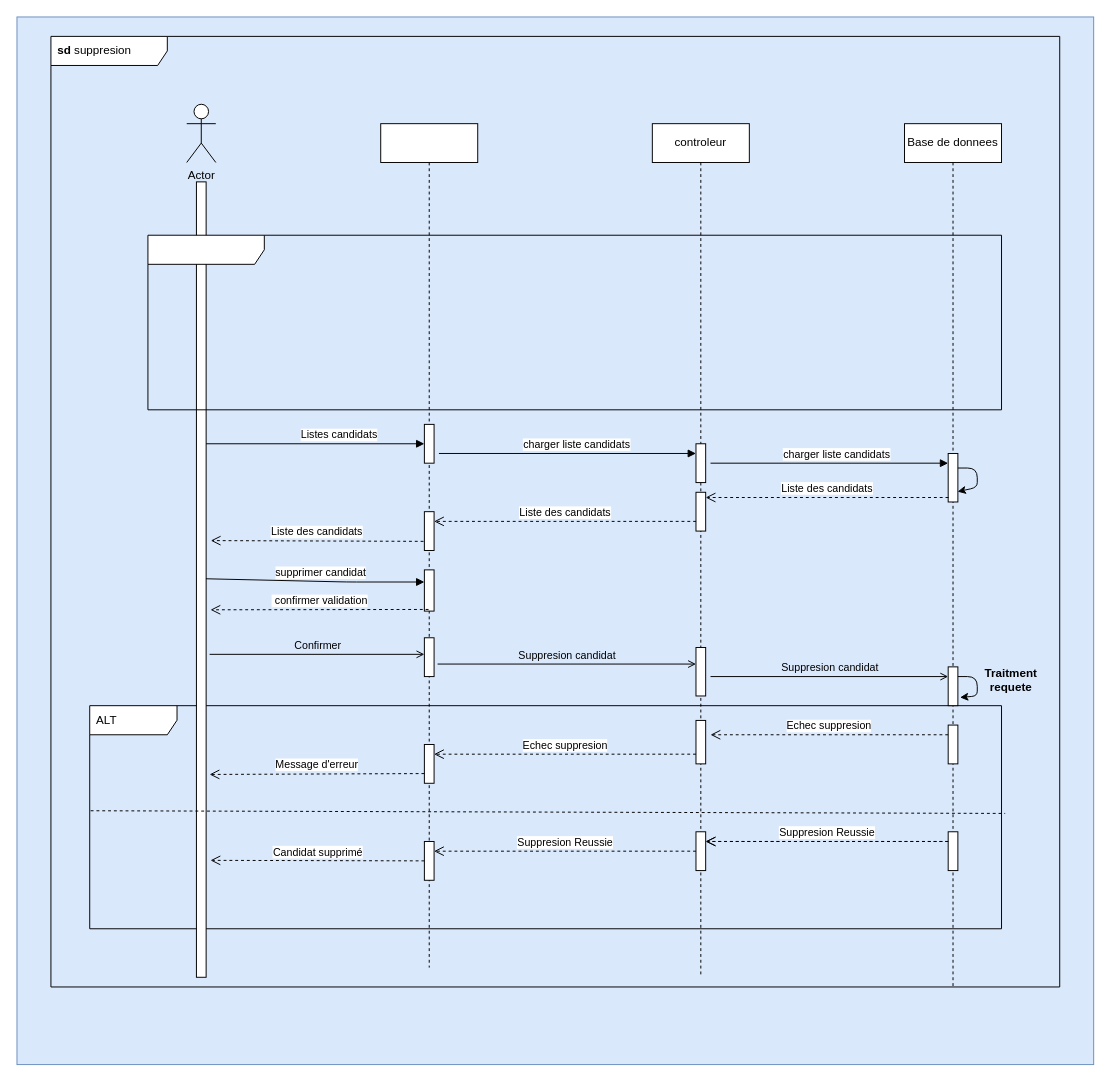
Image size: 1111x1082. Some labels were removed from this diagram. Here are the shapes that lost their labels. From the top down, the box of each, then its label:
(147, 234, 1002, 410): Ref Authentification
(380, 123, 478, 968): IHM
